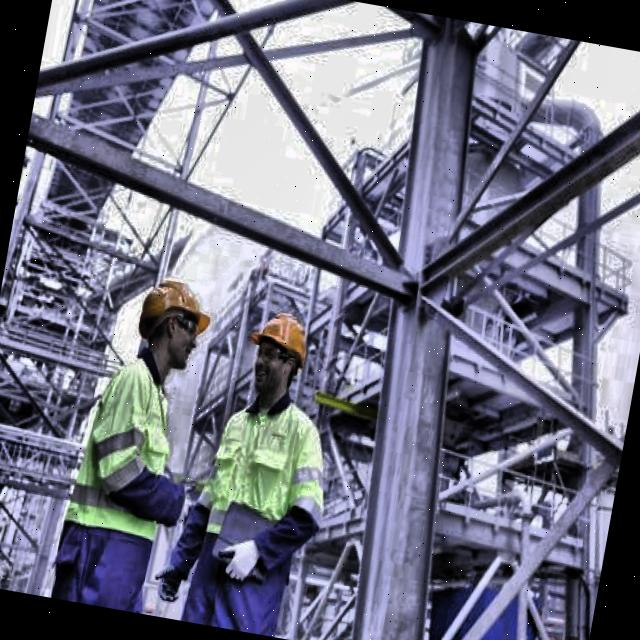helmet: (126, 262, 222, 376), (236, 295, 320, 404)
